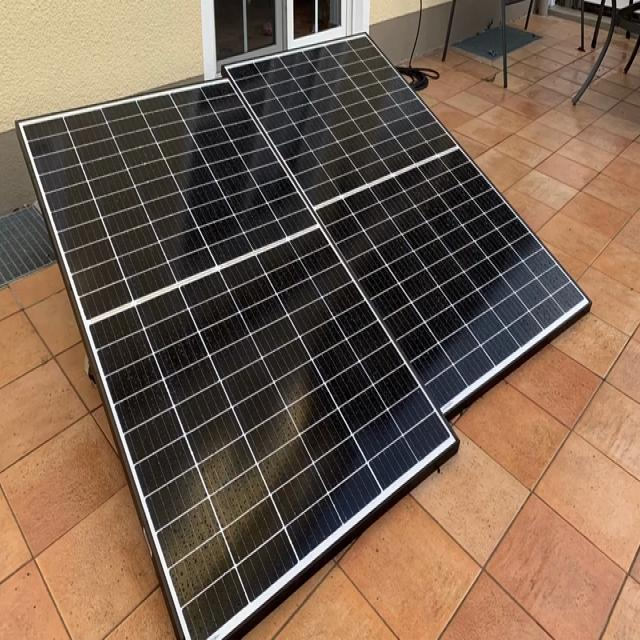Normal Solar Panel: (20, 79, 456, 637), (228, 33, 591, 413)
